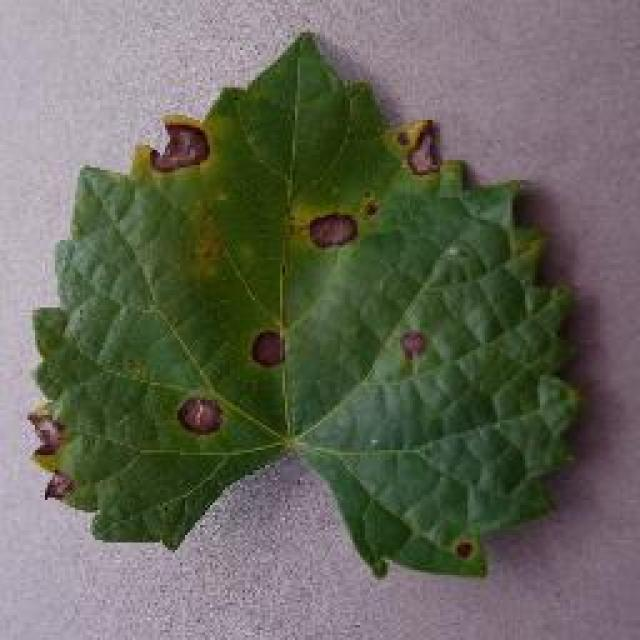Grape___Black_rot: (17, 26, 588, 592)
